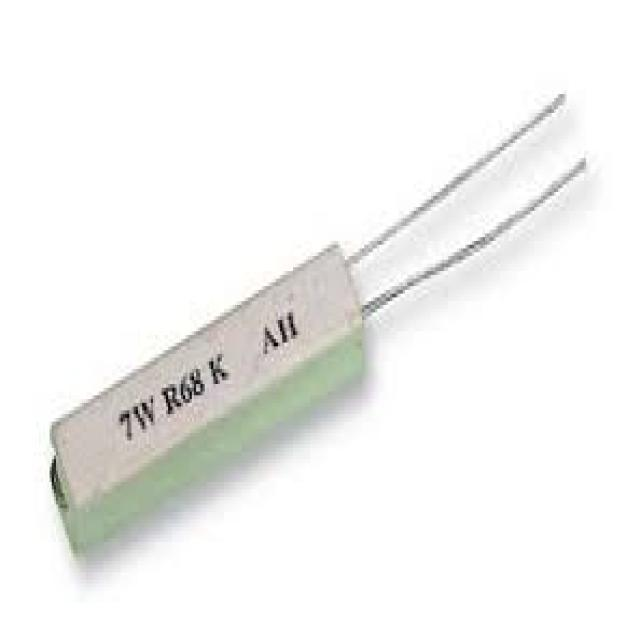Resistor: (52, 242, 364, 556)
